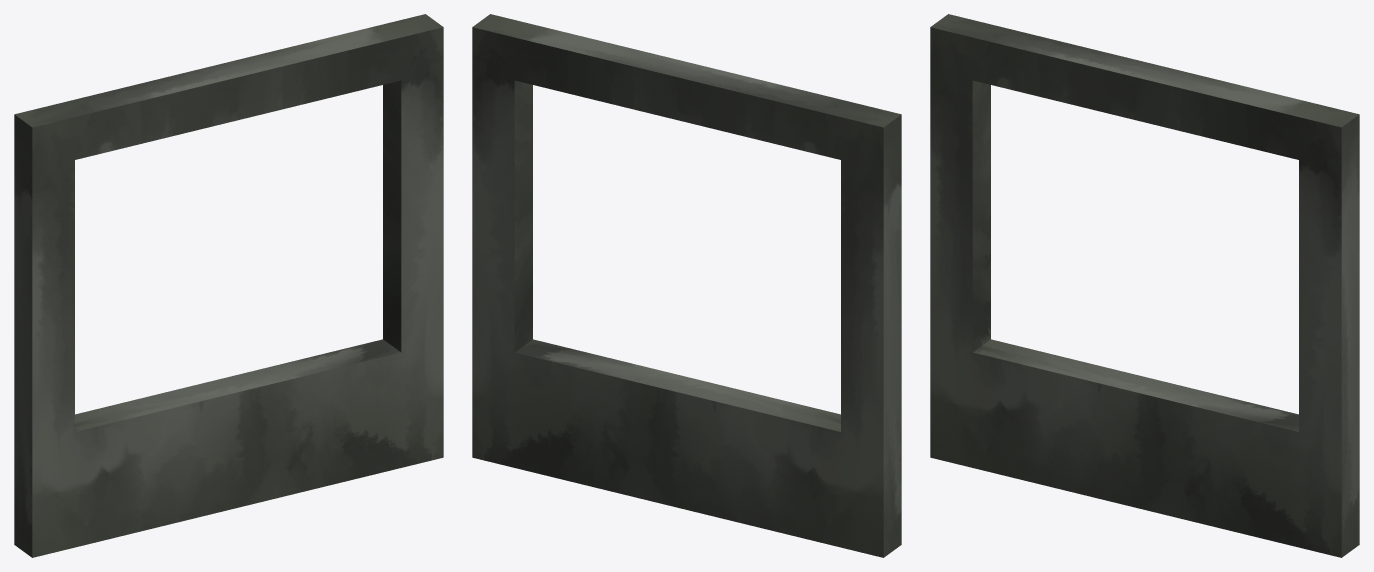
Rendered from wall_window.fbx.
The picture shows the model from 3 angles, left to right: view 1: azimuth 30°, elevation 25°; view 2: azimuth 150°, elevation 25°; view 3: azimuth 330°, elevation 25°; orthographic projection.
Parts seen in each view (by area): view 1: wall_window; view 2: wall_window; view 3: wall_window.
Boxes of the visible parts, <box> form: wall_window: <box>14,14,443,557</box>; wall_window: <box>472,14,901,557</box>; wall_window: <box>930,14,1359,557</box>.
Size of the model in its own units: 300 by 300 by 22.76.
